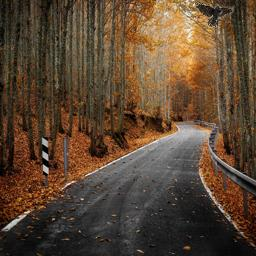Crow: (195, 0, 235, 28)
